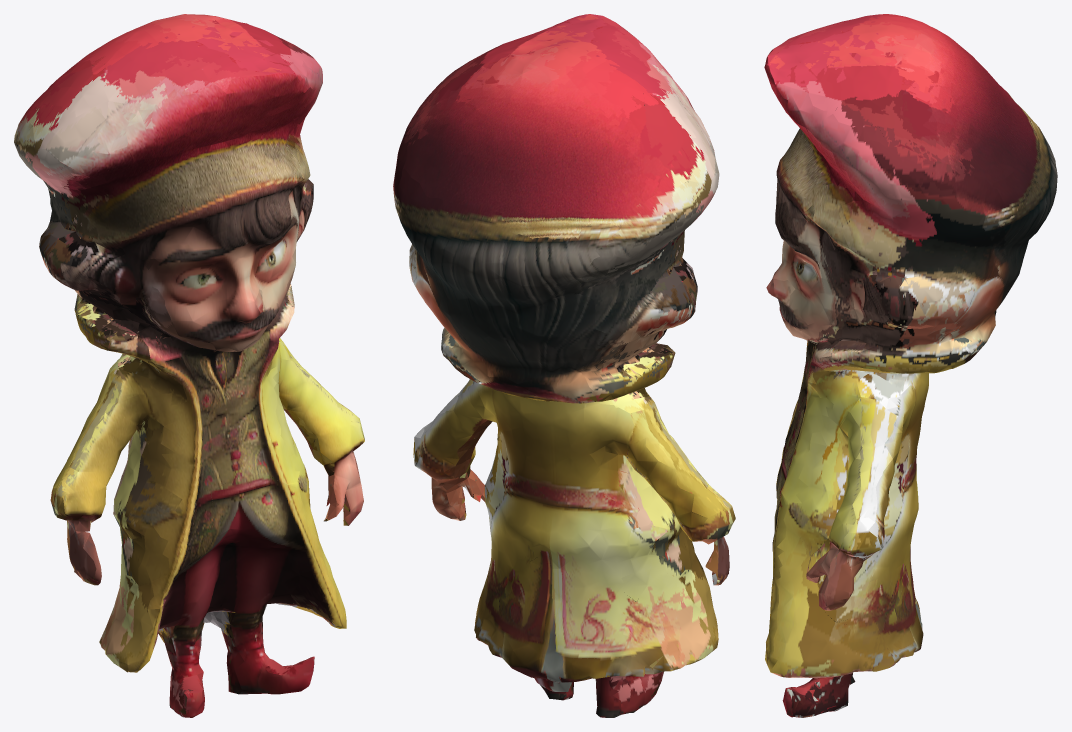
The model's file is piper.fbx.
3 renders of one model, left to right at view 1: azimuth 30°, elevation 25°; view 2: azimuth 150°, elevation 25°; view 3: azimuth 270°, elevation 25°, orthographic. The views are drawn at different scales.
Parts seen in each view (by area): view 1: geometry_0; view 2: geometry_0; view 3: geometry_0.
Part boxes in pixels (x1,y1,x2,y2): geometry_0: (14, 14, 364, 717); geometry_0: (393, 14, 735, 717); geometry_0: (764, 14, 1057, 717).
Size of the model in its own units: 46.19 by 94.65 by 38.09.
1 material, 1 textured.
